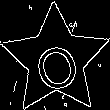O_N: (28, 29, 83, 92)
